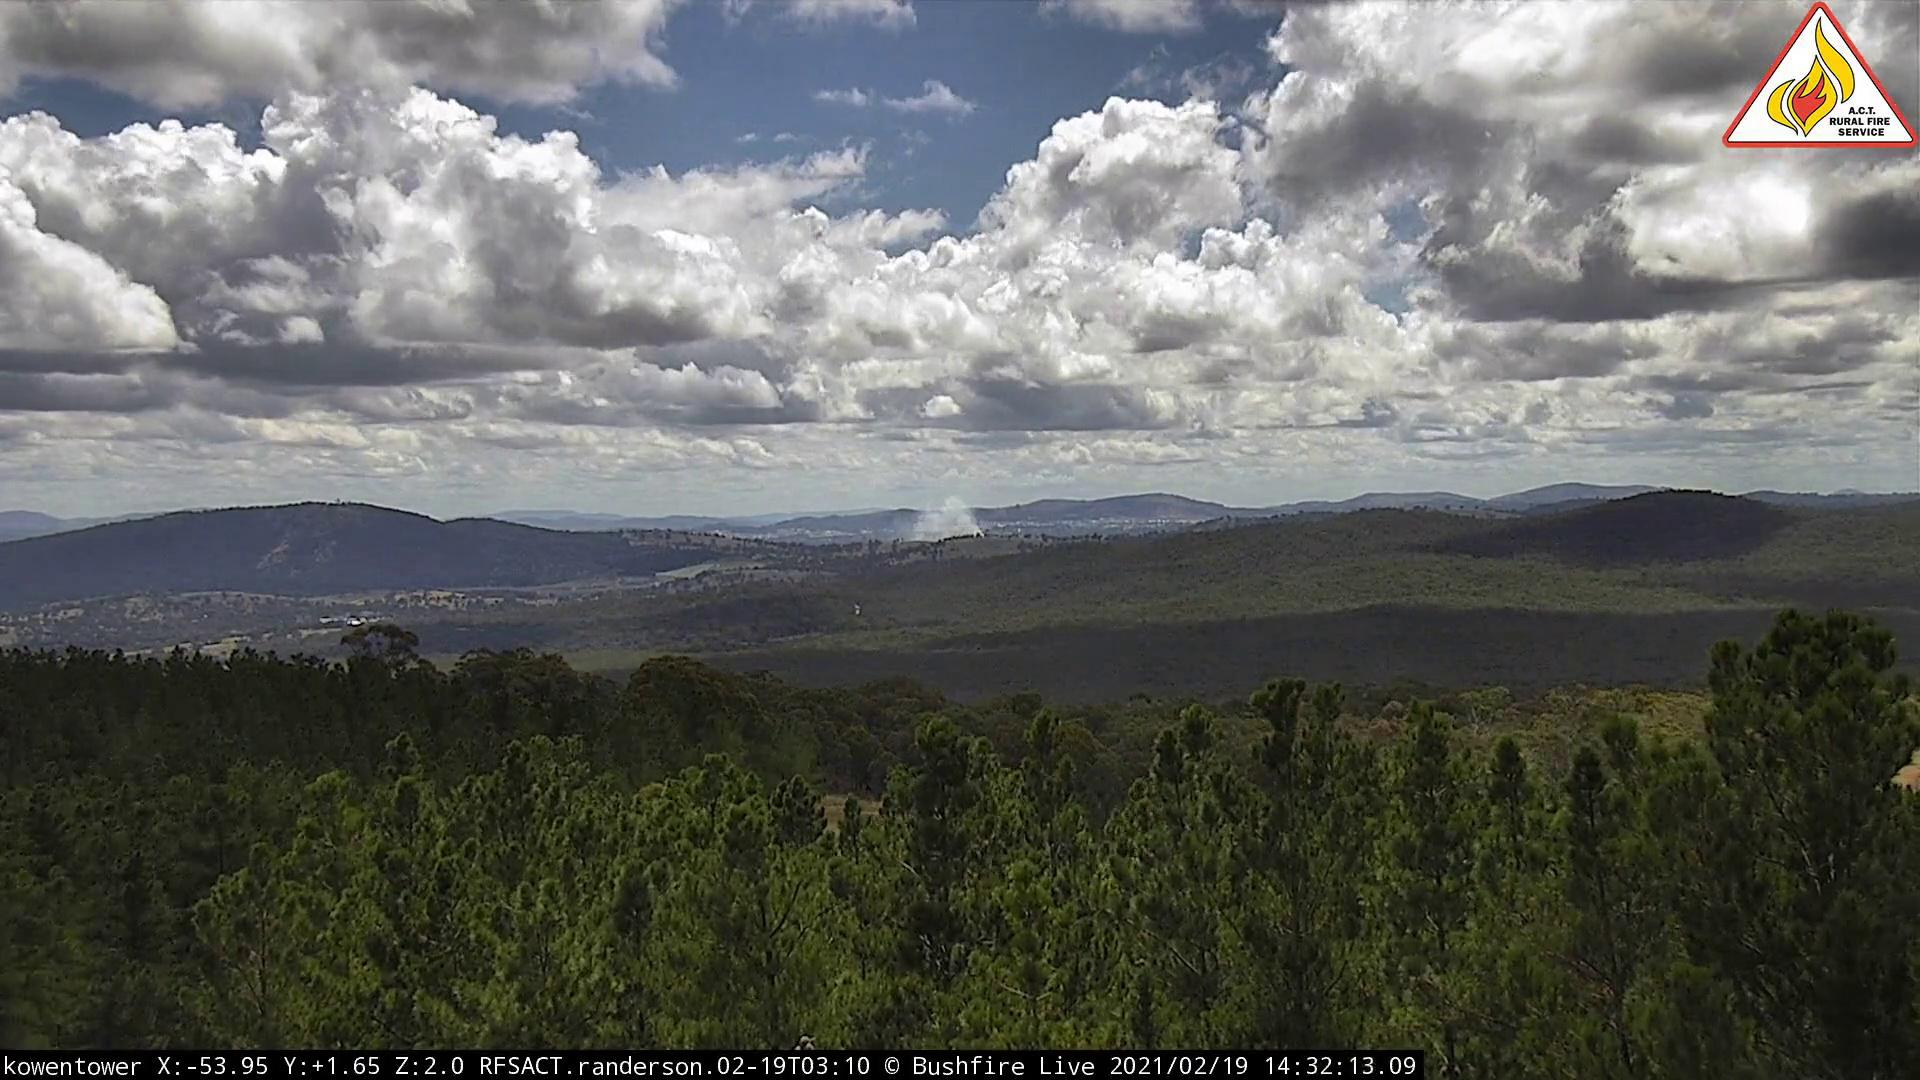Smoke: (898, 483, 1001, 553)
